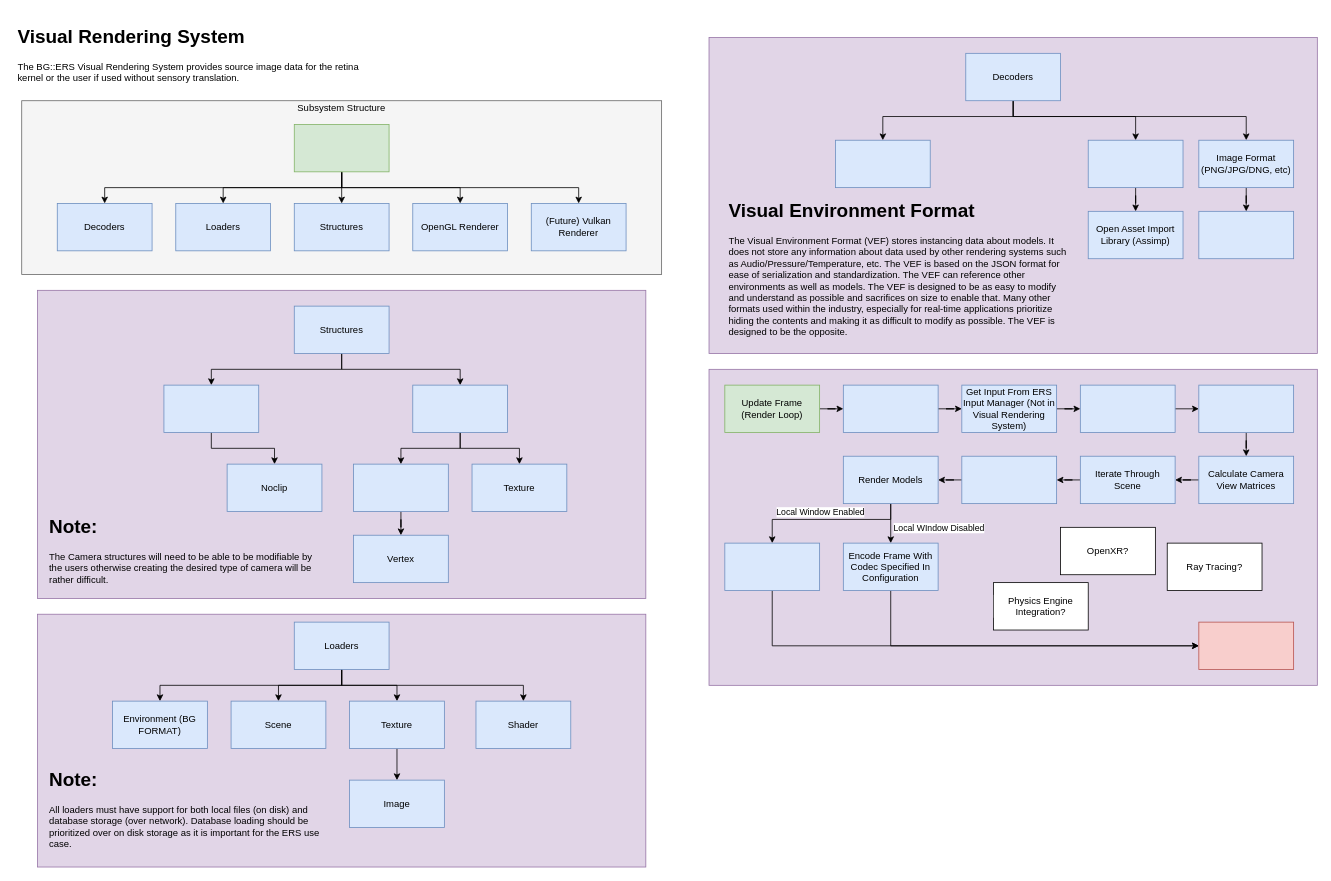
This 1331x881 diagram has some shape labels left out. The centre of each missing label's shape, as x and y in pixels:
"Camera" belongs at [211,408].
"Clear Canvas" belongs at [1127,408].
"Enable Shader" belongs at [1246,408].
"End Frame Update" belongs at [1246,645].
"FreeImage Library" belongs at [1246,235].
"Mesh" belongs at [400,487].
"Model" belongs at [460,408].
"Model/Scene Format (OBJ/GLTF, etc)" belongs at [1135,163].
"Render Lights" belongs at [1009,479].
"Update Frame DeltaTime" belongs at [890,408].
"Update Window" belongs at [772,566].
"Visual Environment Format (BrainGenix Format)" belongs at [882,163].
"Visual Rendering Main File" belongs at [341,148].
